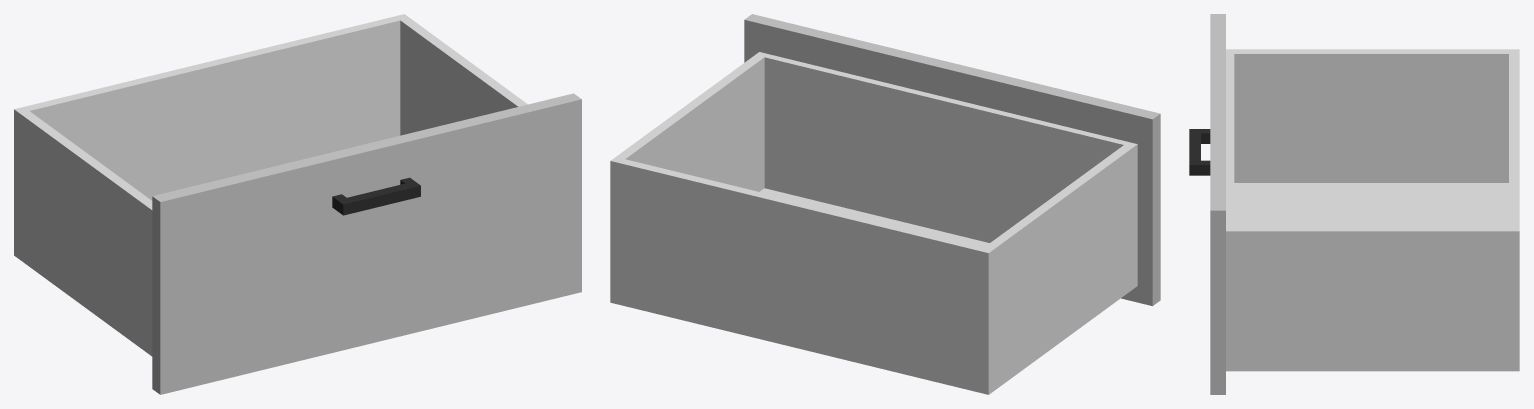
File: TV_Table1_C1_02.fbx
The picture shows the model from 3 angles, left to right: view 1: azimuth 30°, elevation 25°; view 2: azimuth 150°, elevation 25°; view 3: azimuth 270°, elevation 25°; orthographic projection. The views are drawn at different scales.
Visible parts, largest first — view 1: TV_Table1_C1_02; view 2: TV_Table1_C1_02; view 3: TV_Table1_C1_02.
Part boxes in pixels (x1,y1,x2,y2): TV_Table1_C1_02: (14,14,581,394); TV_Table1_C1_02: (610,14,1160,394); TV_Table1_C1_02: (1189,14,1519,394).
Bounding box in the file's own units: 59.97 × 26.22 × 42.61.
